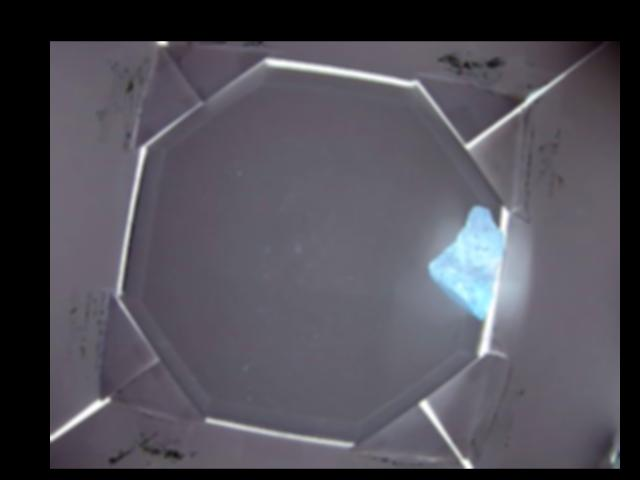Brisk: (431, 205, 505, 318)
